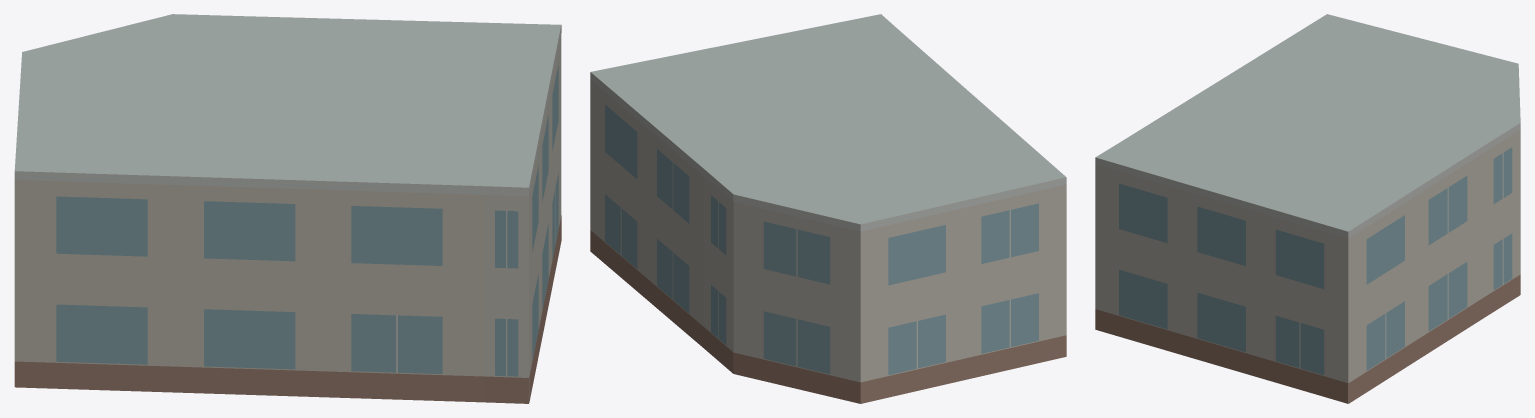
Rendered from survey-upis-32689146.glb.
The picture shows the model from 3 angles, left to right: view 1: azimuth 30°, elevation 25°; view 2: azimuth 150°, elevation 25°; view 3: azimuth 270°, elevation 25°; orthographic projection. The views are drawn at different scales.
Visible parts, largest first — view 1: survey-upis-32689146.tmp; view 2: survey-upis-32689146.tmp; view 3: survey-upis-32689146.tmp.
Boxes of the visible parts, x1=… form: survey-upis-32689146.tmp: x1=14, y1=14, x2=561, y2=403; survey-upis-32689146.tmp: x1=590, y1=14, x2=1066, y2=403; survey-upis-32689146.tmp: x1=1095, y1=14, x2=1520, y2=403.
Bounding box in the file's own units: 16.55 × 6.1 × 13.67.
